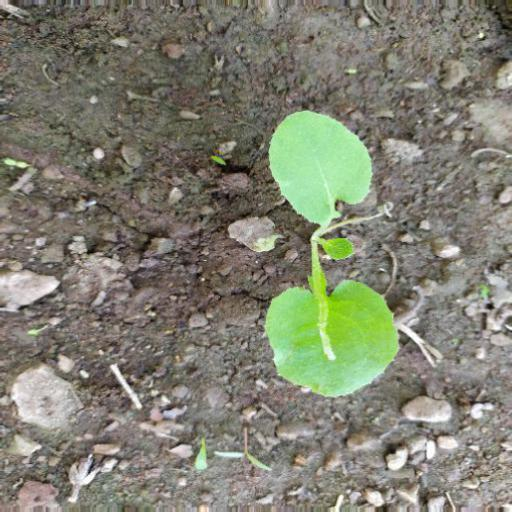weed: (254, 105, 411, 422)
